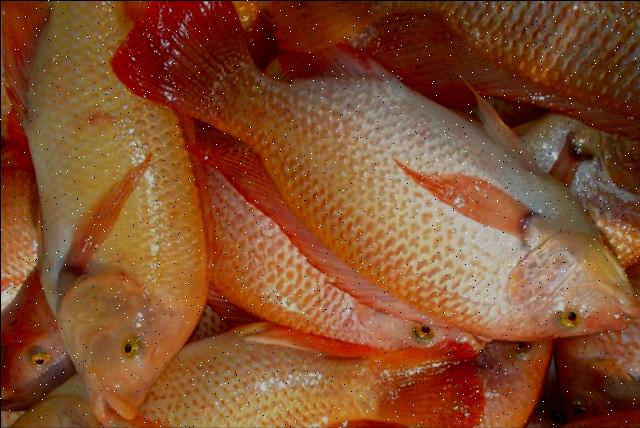Mulut: (51, 342, 165, 426), (594, 269, 640, 339)
Sirip Dada: (376, 140, 552, 250), (48, 142, 166, 294)
Sirip Ekor: (93, 0, 266, 133), (321, 326, 497, 428)
Sirip Perut: (461, 64, 563, 192)
Sirip Punggung: (192, 137, 442, 342)
